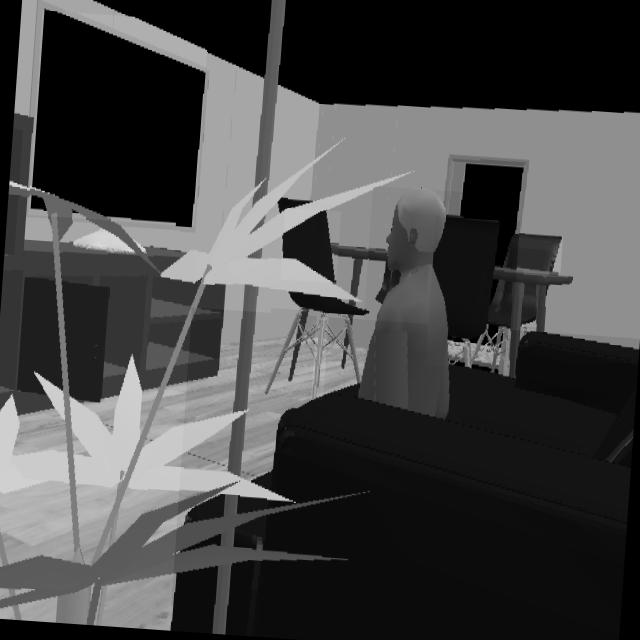chair: (432, 216, 513, 368), (282, 210, 335, 283), (265, 310, 308, 393), (503, 233, 562, 273), (311, 313, 327, 398), (520, 284, 537, 325)
monitor: (30, 11, 203, 224)
person: (358, 189, 450, 419)
sofa: (169, 331, 639, 640)
